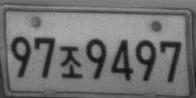4: (110, 38, 133, 81)
7: (159, 40, 182, 82), (33, 36, 55, 78)
9: (134, 38, 156, 82), (85, 37, 107, 79), (10, 35, 31, 77)
조: (59, 45, 82, 79)
